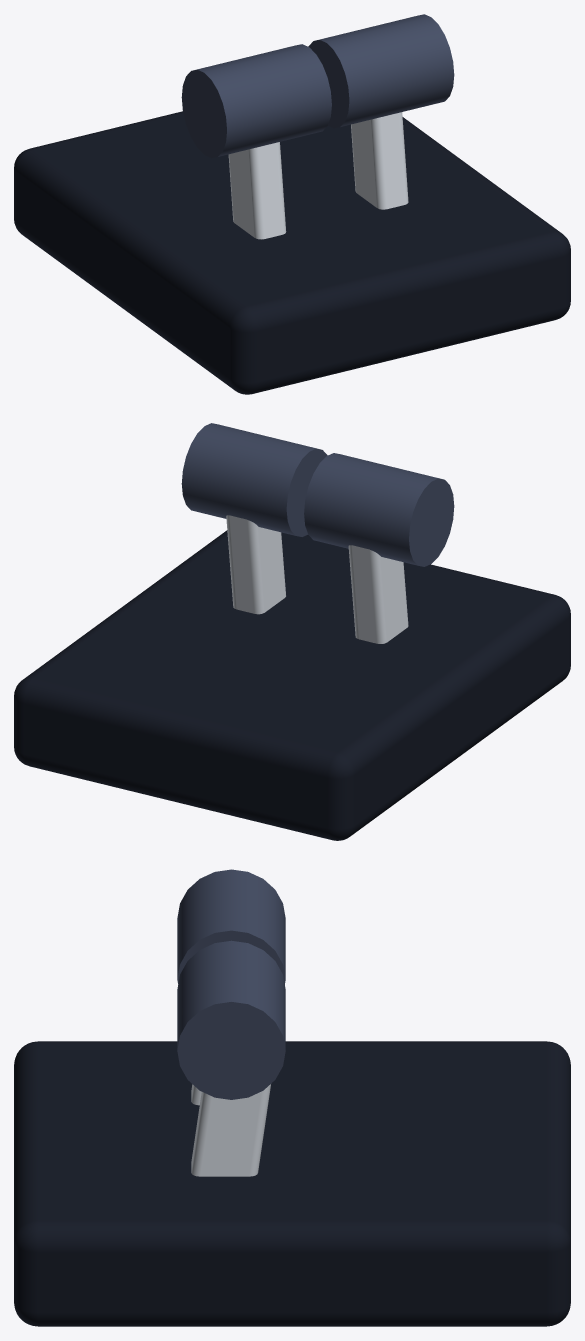
Rendered from atelier-gaming-throttle-cyber.glb.
3 views of the same model, one above another, from view 1: azimuth 30°, elevation 25°; view 2: azimuth 150°, elevation 25°; view 3: azimuth 270°, elevation 25° (orthographic). The views are drawn at different scales.
Size of the model in its own units: 0.155 by 0.11 by 0.185.
